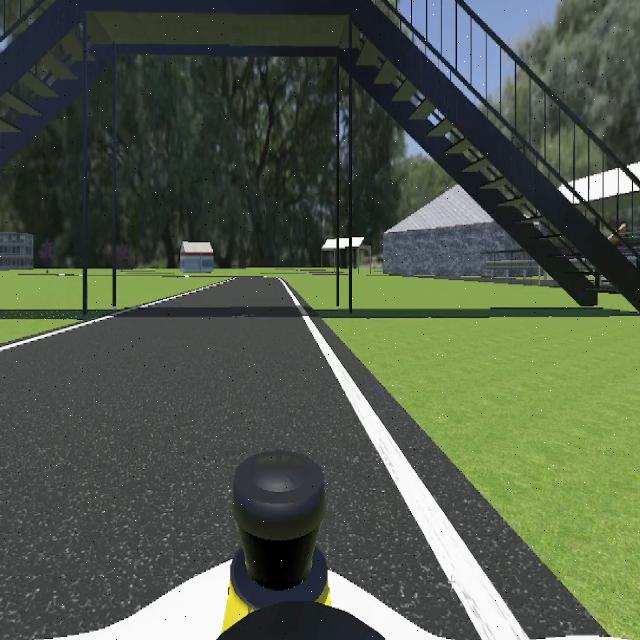road: (0, 278, 478, 640)
solid_line: (282, 282, 527, 640), (0, 281, 227, 353)
